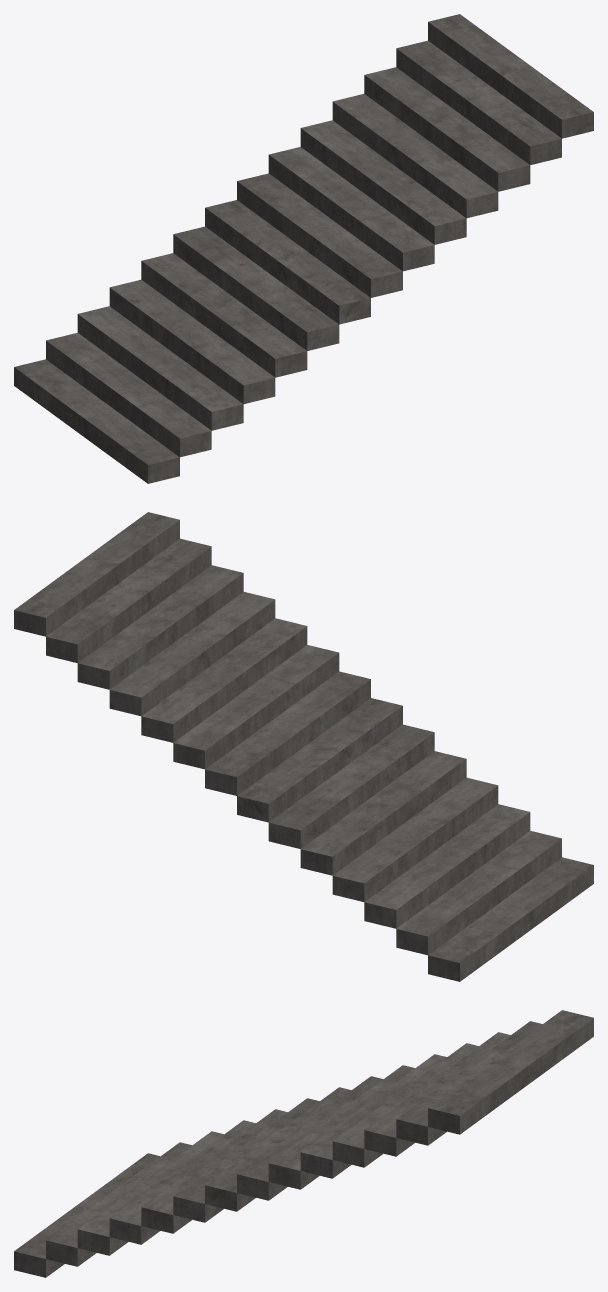
File: Stairs.fbx
The picture shows the model from 3 angles, top to bottom: view 1: azimuth 30°, elevation 25°; view 2: azimuth 150°, elevation 25°; view 3: azimuth 330°, elevation 25°; orthographic projection.
Visible parts, largest first — view 1: Staits1; view 2: Staits1; view 3: Staits1.
Part boxes in pixels (x1,y1,x2,y2): Staits1: [14, 14, 593, 483]; Staits1: [14, 512, 593, 981]; Staits1: [14, 1010, 593, 1277].
Size of the model in its own units: 516 by 291 by 269.
